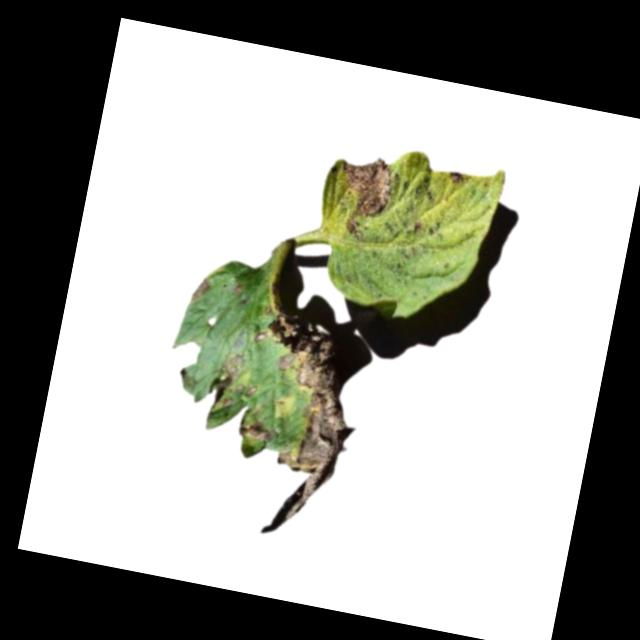Early_blight: (226, 318, 361, 547), (329, 151, 396, 247), (203, 349, 259, 416), (189, 273, 215, 307), (447, 168, 469, 187)
